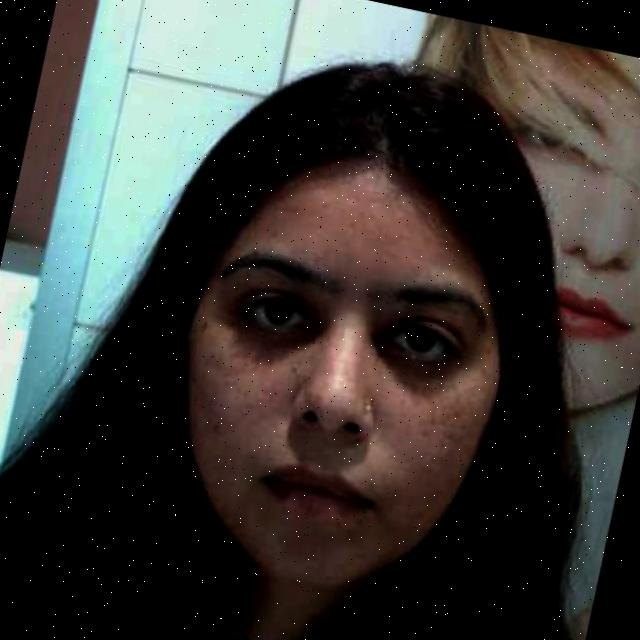puffy_eyes: (374, 342, 447, 384), (239, 321, 323, 357)
